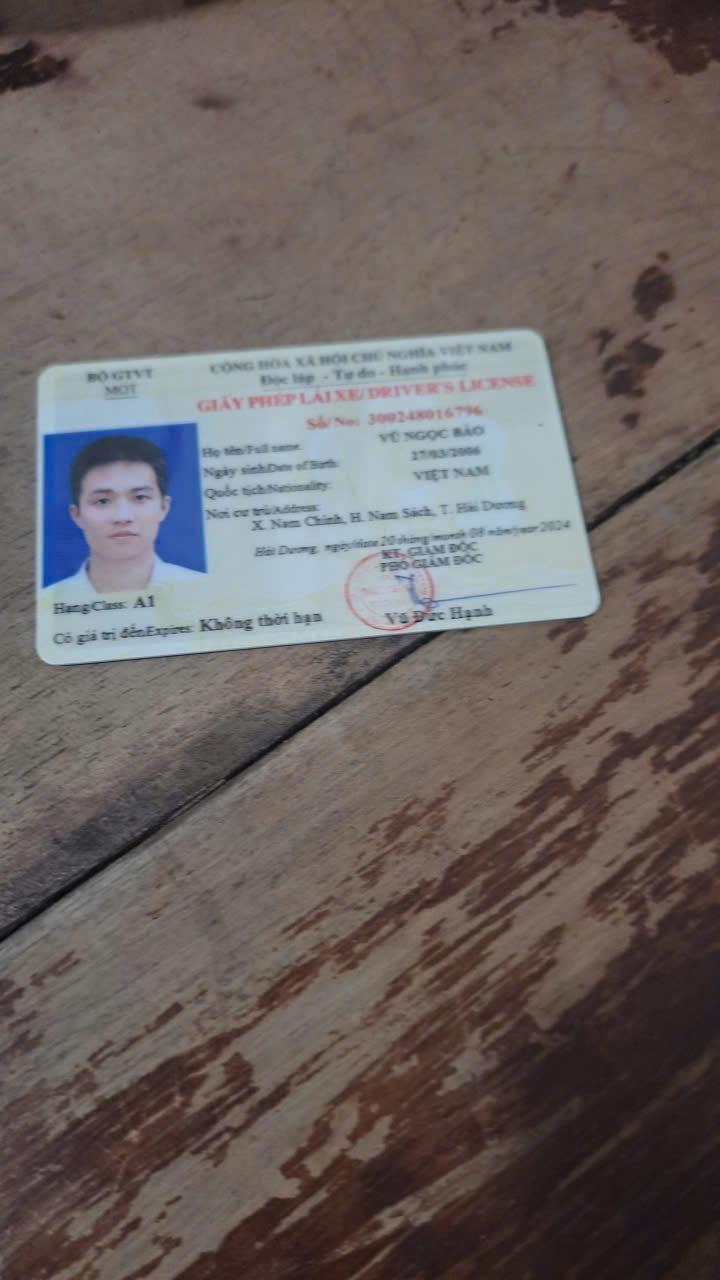gplx: (22, 325, 608, 670)
